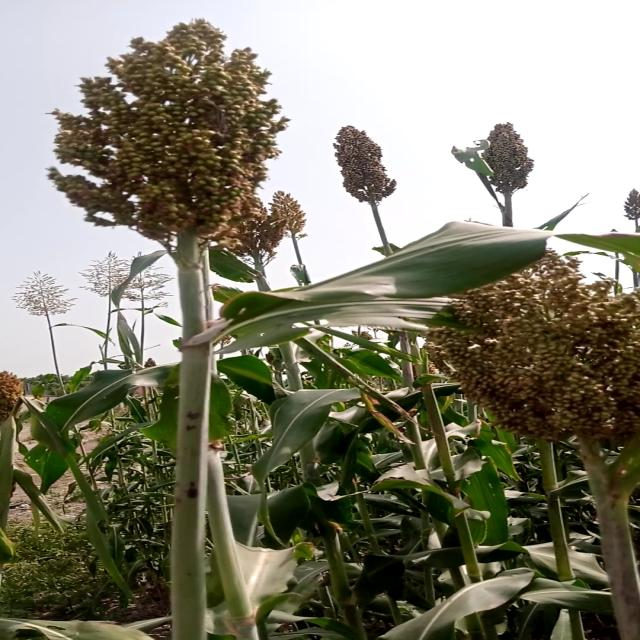UnripeSorghum: (30, 19, 291, 259), (420, 225, 640, 451), (317, 115, 421, 239), (462, 109, 554, 219)
